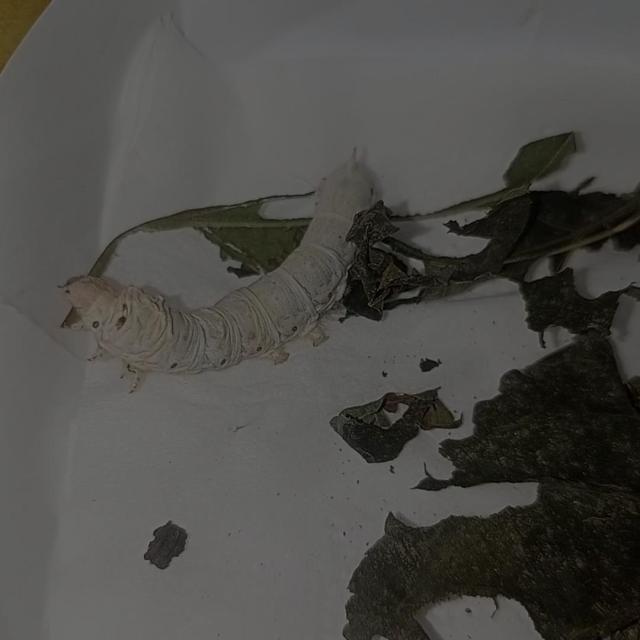Healthy: (18, 126, 474, 410)
